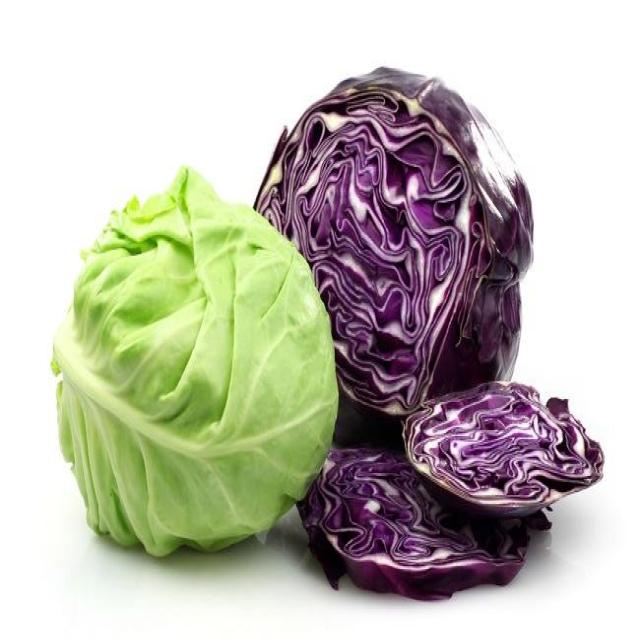Organik: (39, 164, 338, 572), (254, 57, 530, 390), (286, 433, 558, 597), (397, 366, 624, 524)
